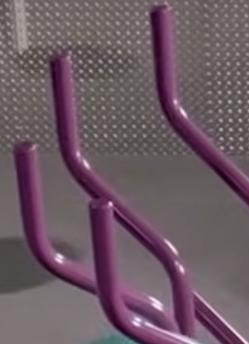algae: (90, 332, 142, 344)
